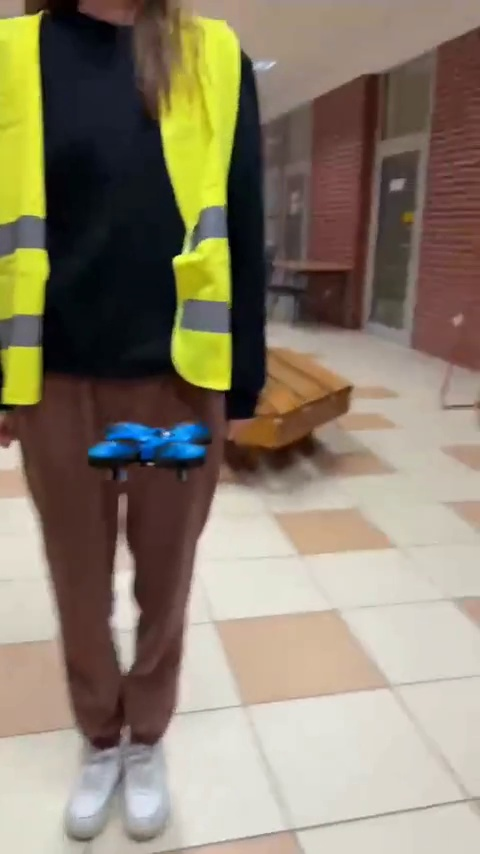drone: (83, 420, 210, 482)
vest: (0, 63, 253, 841)
